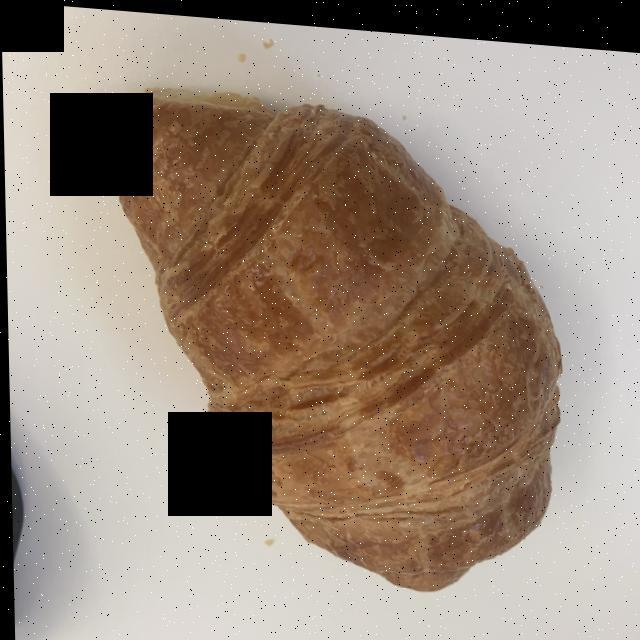croissant: (119, 89, 554, 574)
